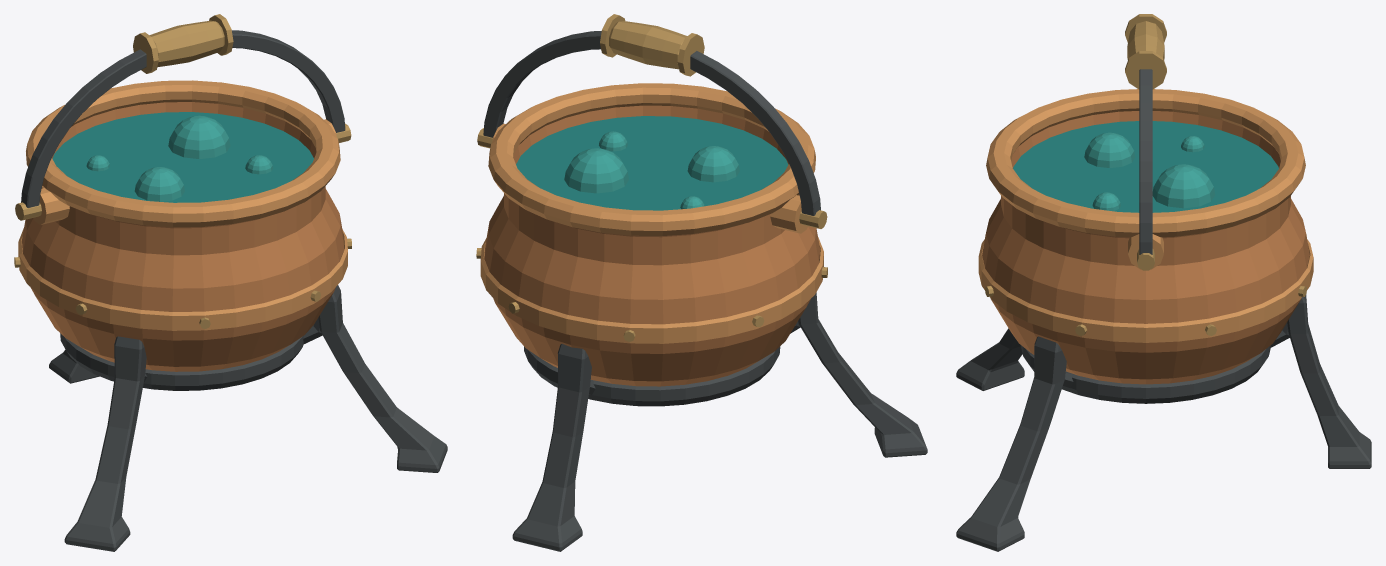
File: asset.glb
The picture shows the model from 3 angles, left to right: view 1: azimuth 30°, elevation 25°; view 2: azimuth 150°, elevation 25°; view 3: azimuth 270°, elevation 25°; orthographic projection. The views are drawn at different scales.
Parts seen in each view (by area): view 1: pot_shell, pot_rolled_rim, brew_surface, tripod_leg_front_left, pot_belly_seam, bail_iron_arch, tripod_leg_front_right, tripod_cradle_ring, bail_brass_grip, brew_bubble_01, brew_bubble_00, tripod_leg_rear (+2 smaller); view 2: pot_shell, pot_rolled_rim, brew_surface, tripod_leg_rear, pot_belly_seam, bail_iron_arch, tripod_leg_front_left, tripod_cradle_ring, bail_brass_grip, brew_bubble_01, brew_bubble_00, pot_bail_lug_left (+1 smaller); view 3: pot_shell, pot_rolled_rim, brew_surface, tripod_leg_front_right, pot_belly_seam, tripod_leg_rear, tripod_cradle_ring, bail_iron_arch, tripod_leg_front_left, brew_bubble_01, brew_bubble_00, bail_grip_collar_right (+2 smaller).
Part boxes in pixels (x1,y1,x2,y2): pot_shell: (22,102,344,371); pot_rolled_rim: (26,80,340,227); brew_surface: (52,112,313,202); tripod_leg_front_left: (64,336,146,551); pot_belly_seam: (18,228,347,330); bail_iron_arch: (21,30,345,207); tripod_leg_front_right: (318,285,447,472); tripod_cradle_ring: (60,333,303,390); bail_brass_grip: (149,20,224,67); brew_bubble_01: (168,115,230,159); brew_bubble_00: (134,167,184,201); tripod_leg_rear: (49,349,99,383); pot_shell: (484,105,820,386); pot_rolled_rim: (488,83,815,235); brew_surface: (516,116,788,210); tripod_leg_rear: (512,344,591,551); pot_belly_seam: (480,237,823,343); bail_iron_arch: (483,31,820,215); tripod_leg_front_left: (798,292,927,457); tripod_cradle_ring: (524,346,780,406); bail_brass_grip: (609,21,687,69); brew_bubble_01: (564,148,628,193); brew_bubble_00: (687,146,739,182); pot_bail_lug_left: (770,195,808,233); pot_shell: (982,111,1309,384); pot_rolled_rim: (986,89,1305,237); brew_surface: (1013,121,1278,212); tripod_leg_front_right: (956,336,1066,551); pot_belly_seam: (978,239,1313,342); tripod_leg_rear: (1287,294,1371,468); tripod_cradle_ring: (1020,345,1270,403); bail_iron_arch: (1139,69,1152,254); tripod_leg_front_left: (956,328,1024,390); brew_bubble_01: (1152,164,1215,208); brew_bubble_00: (1084,132,1135,167); bail_grip_collar_right: (1125,51,1166,89).
Size of the model in its own units: 0.2962 by 0.3103 by 0.2752.
